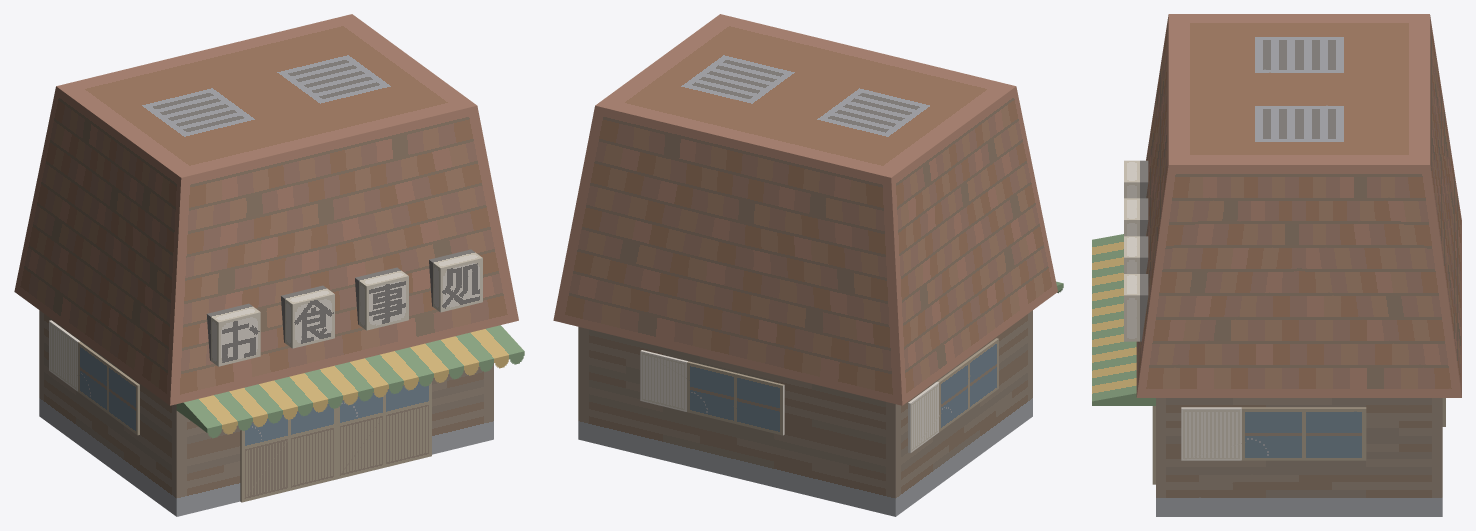
File: 03a4_Teahouse.glb
3 views of the same model, side by side, from view 1: azimuth 30°, elevation 25°; view 2: azimuth 150°, elevation 25°; view 3: azimuth 270°, elevation 25° (orthographic). The views are drawn at different scales.
Visible parts, largest first — view 1: part_0; view 2: part_0; view 3: part_0.
Part boxes in pixels (box(x1,y1,x2,y2)): part_0: box(14, 14, 524, 516); part_0: box(553, 14, 1063, 516); part_0: box(1092, 14, 1461, 516).
Size of the model in its own units: 6.6 by 6 by 5.8.
1 material, 1 textured.
